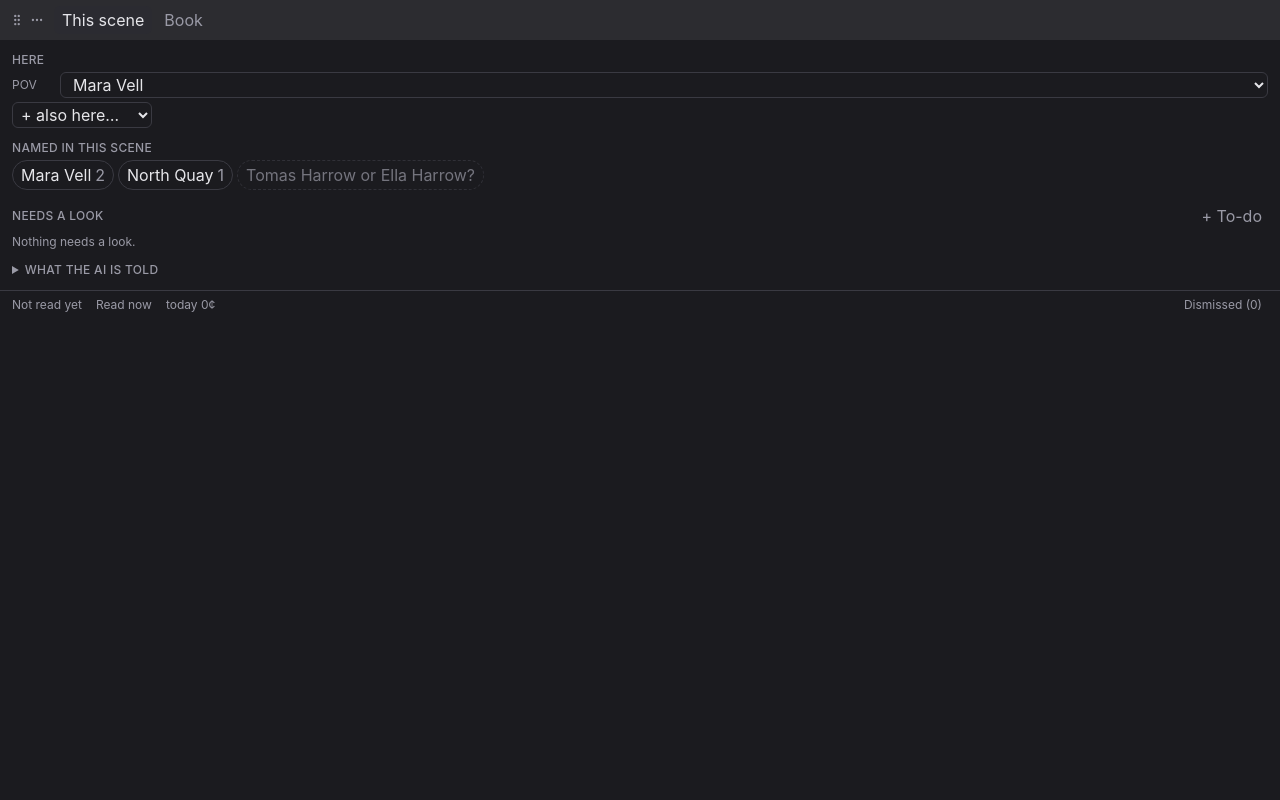
Test: ThisScenePanel (F-16.12) › orders the Book tab: Cast, Who knows what, Threads, Timeline, Check the book, Rebuild memory (F-16.23, F-16.30)
The image size is (1280, 800).
Expected: the element with test id "named-chips" is shown, top-left (12, 160), bottom-right (484, 190)
Click the tab "Book" at (184, 20), box top-left (156, 6), bottom-right (211, 34)
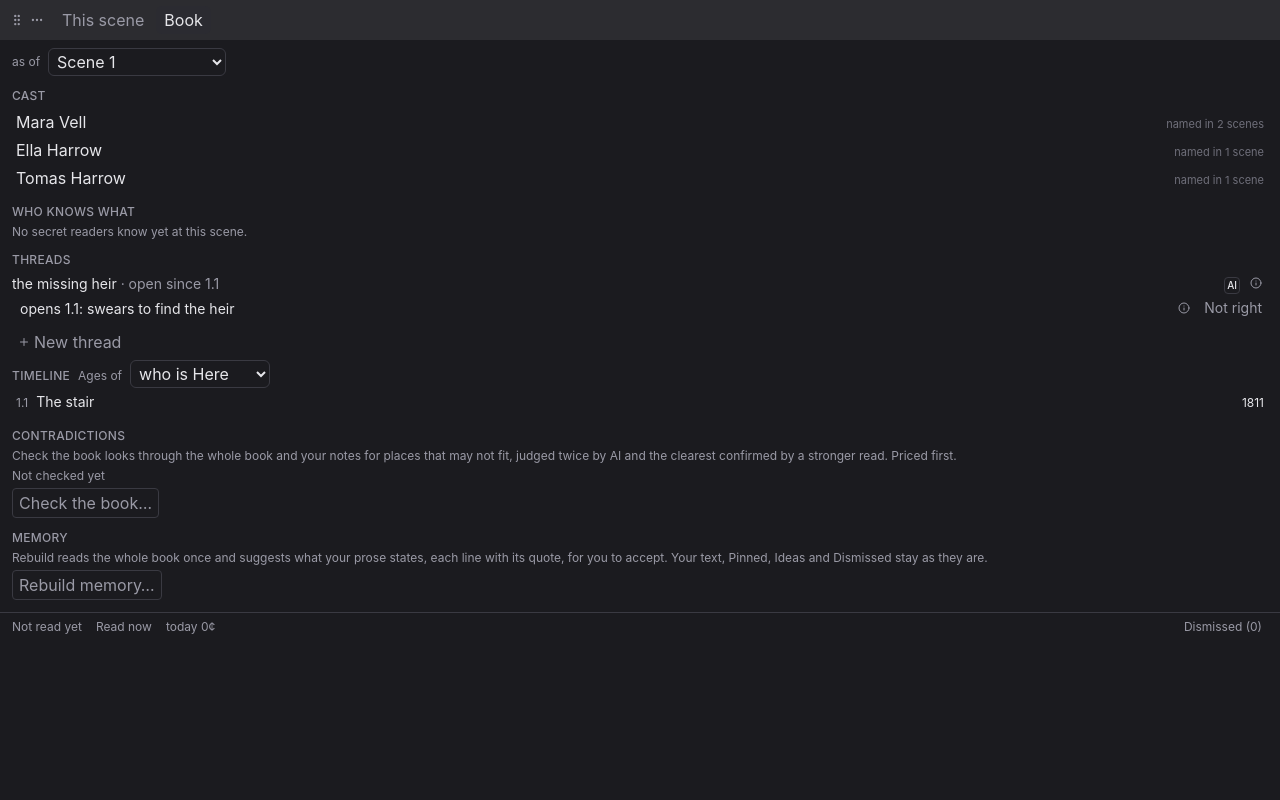
Result: the element named "Thread: the missing heir" is shown at top-left (12, 272), bottom-right (1268, 324)
Result: the headings read "Cast", "Who knows what", "Threads", "Timeline", "Contradictions", "Memory", in this order at top-left (12, 88), bottom-right (46, 103); top-left (12, 204), bottom-right (135, 219); top-left (12, 252), bottom-right (71, 267); top-left (12, 368), bottom-right (70, 384); top-left (12, 428), bottom-right (125, 443); top-left (12, 530), bottom-right (68, 545)
Result: the button "Rebuild memory…" is shown at top-left (12, 570), bottom-right (162, 600)
